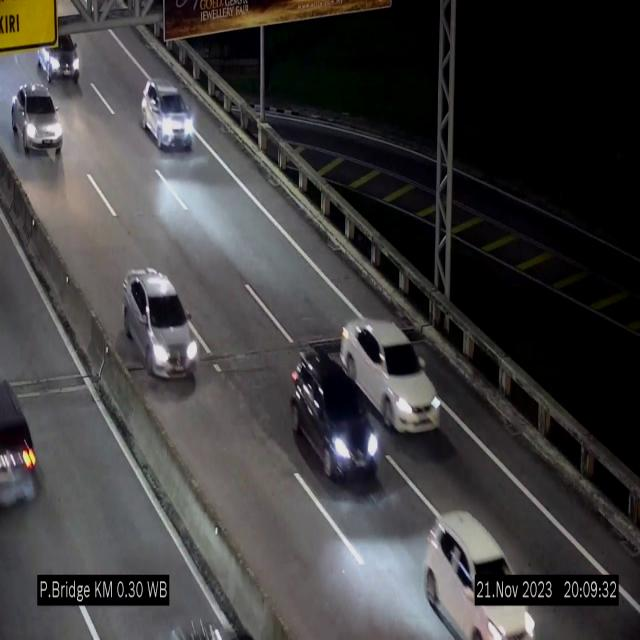Car: (426, 512, 535, 640), (282, 345, 382, 483), (340, 321, 440, 430), (0, 359, 49, 552), (124, 268, 198, 381), (6, 80, 68, 156), (29, 20, 89, 89), (141, 78, 195, 148)
